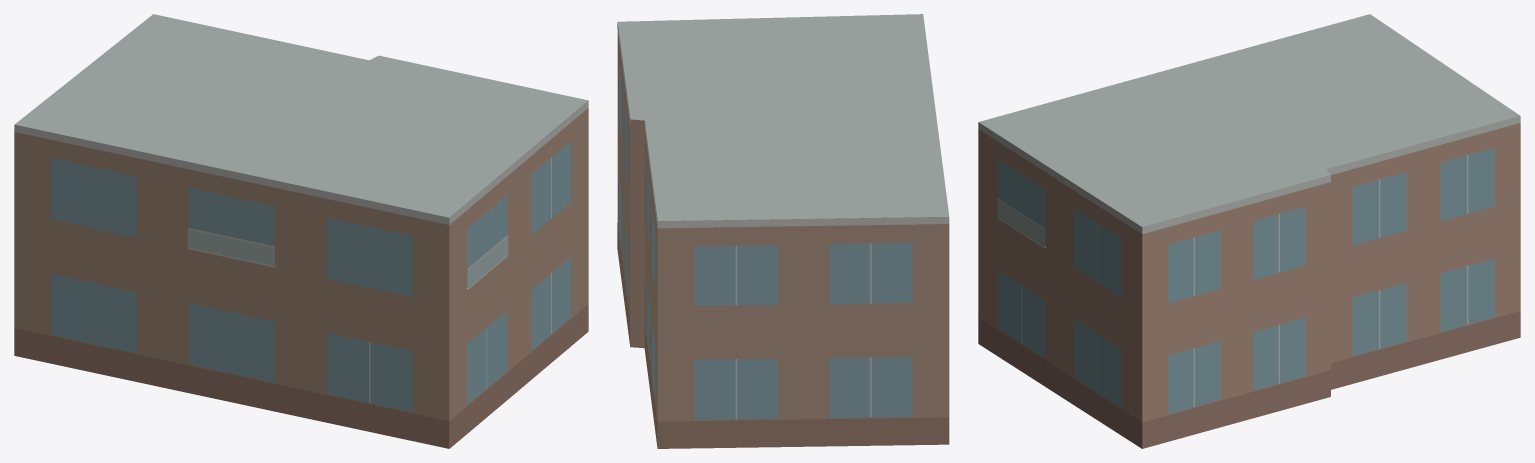
File: survey-upis-32916484.glb
The picture shows the model from 3 angles, left to right: view 1: azimuth 30°, elevation 25°; view 2: azimuth 150°, elevation 25°; view 3: azimuth 270°, elevation 25°; orthographic projection. The views are drawn at different scales.
Visible parts, largest first — view 1: survey-upis-32916484.tmp; view 2: survey-upis-32916484.tmp; view 3: survey-upis-32916484.tmp.
Part boxes in pixels (x1,y1,x2,y2): survey-upis-32916484.tmp: [14, 14, 588, 448]; survey-upis-32916484.tmp: [617, 14, 949, 448]; survey-upis-32916484.tmp: [978, 14, 1520, 448].
Size of the model in its own units: 15.89 by 7.7 by 17.08.
